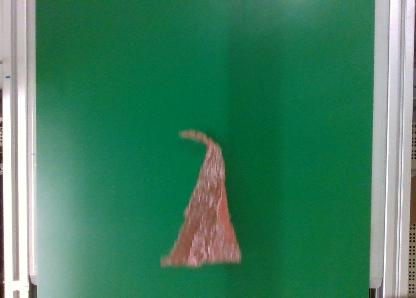Others: (172, 128, 242, 268)
